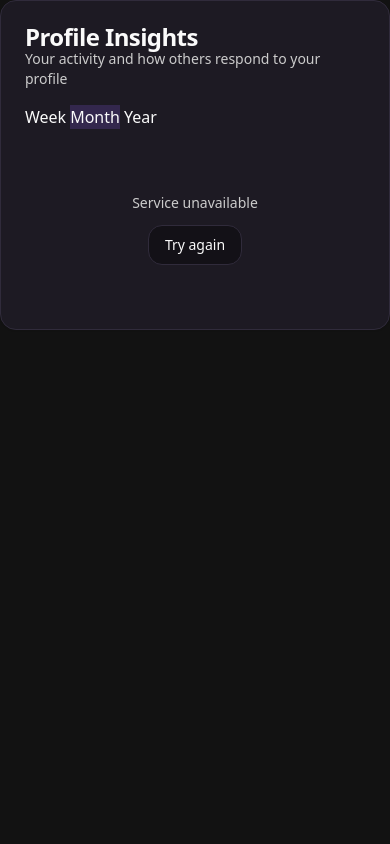
Test: ProfileInsights › shows the error and retries
Expected: the message shows "Service unavailable", [132,193,258,212]
Click the button "Try again" at [195, 245], box [148,225,242,265]
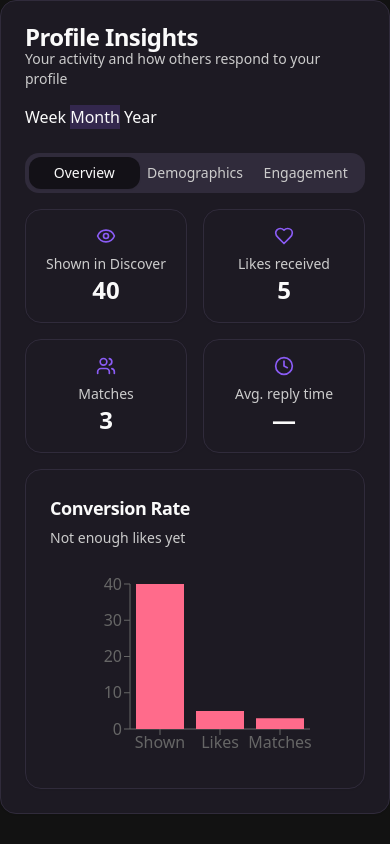
Expected: the text "5" is shown, [277,274,291,306]
